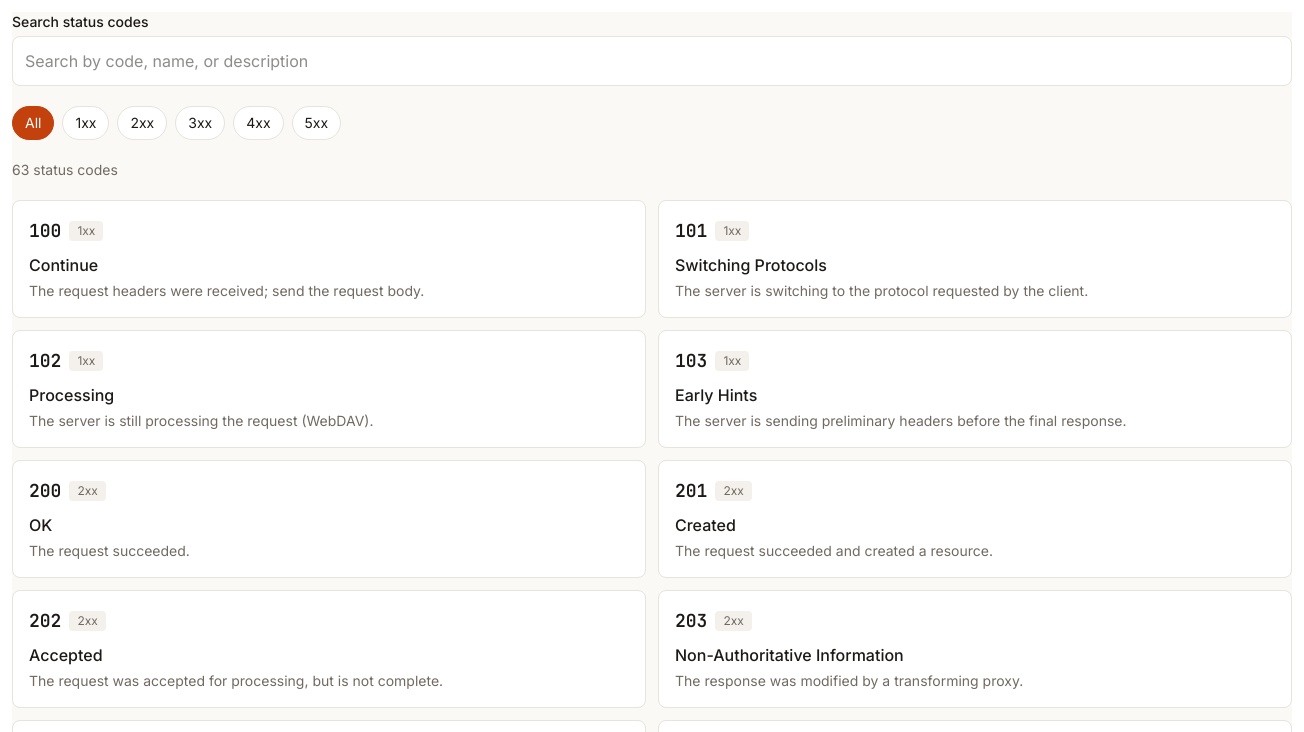
Test case: HttpStatusCodes › filters results by status class
The width and height of the screenshot is (1304, 732).
Click the button "4xx".
click(258, 123)  # box x1=233 y1=106 x2=284 y2=140
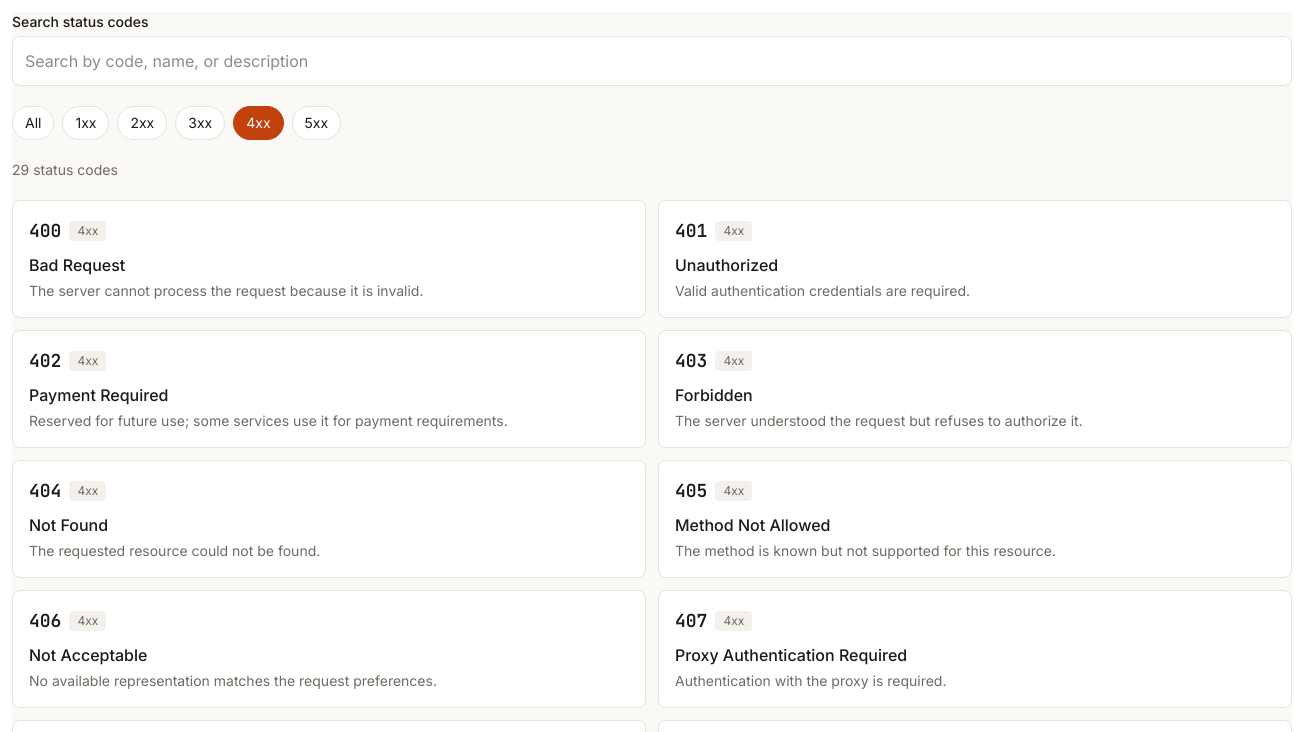
Expected: the heading "Not Found" is shown, x1=29 y1=515 x2=108 y2=535
Expected: the heading "Created" is gone
